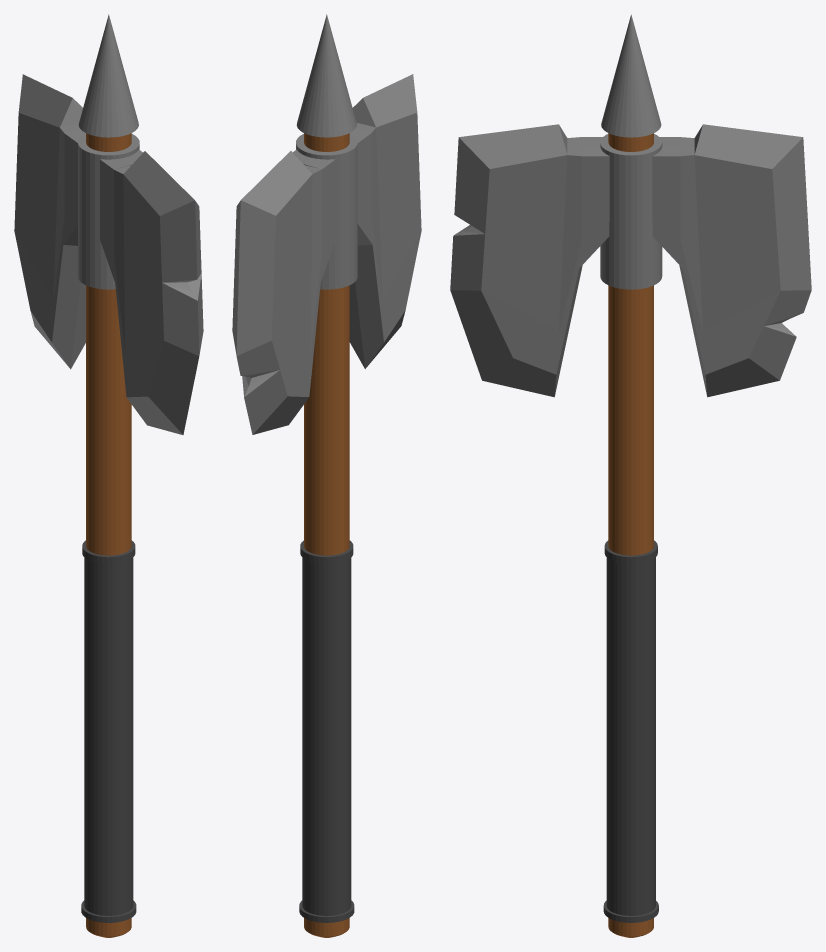
File: Axe1.fbx
The picture shows the model from 3 angles, left to right: view 1: azimuth 30°, elevation 25°; view 2: azimuth 150°, elevation 25°; view 3: azimuth 270°, elevation 25°; orthographic projection.
Visible parts, largest first — view 1: Cylinder.002; view 2: Cylinder.002; view 3: Cylinder.002.
Boxes of the visible parts, x1,y1,x2,y2 form: Cylinder.002: [14, 14, 203, 937]; Cylinder.002: [232, 14, 421, 937]; Cylinder.002: [450, 14, 811, 937].
Size of the model in its own units: 272 by 4451 by 1585.
